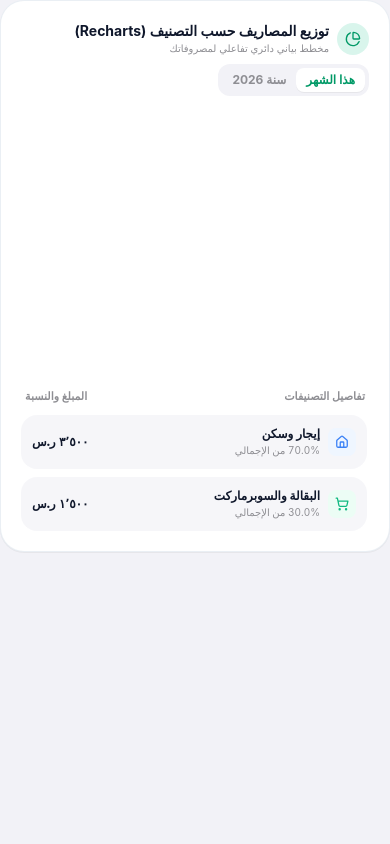
Test case: CategoryExpensesPieChart Tests › switches between monthly and annual scopes when toggled
This screenshot has width=390, height=844.
expect the text "الأطفال والمدارس" is not shown: met
Click the button "سنة 2026": (259,80) [222,68,296,92]
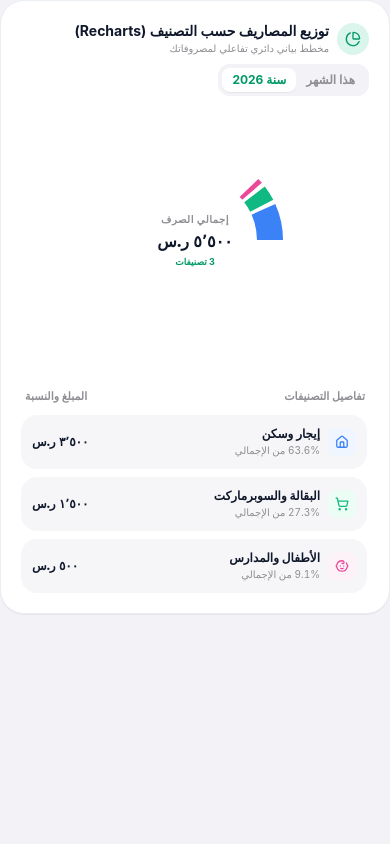
expect the text "الأطفال والمدارس" is shown: met, box [229,550,320,566]
